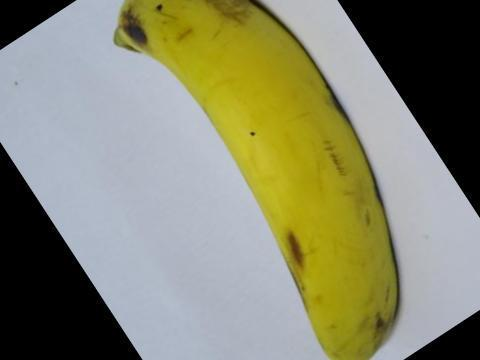freshripe: (94, 0, 424, 359)
